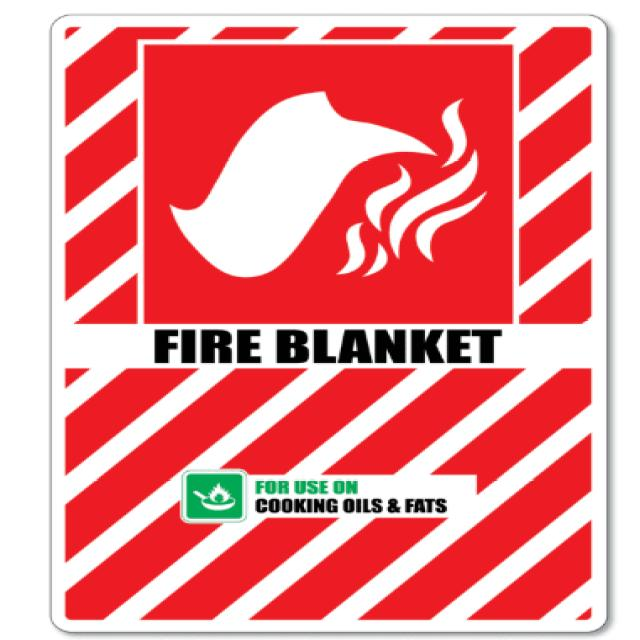fire signage: (39, 8, 608, 636)
